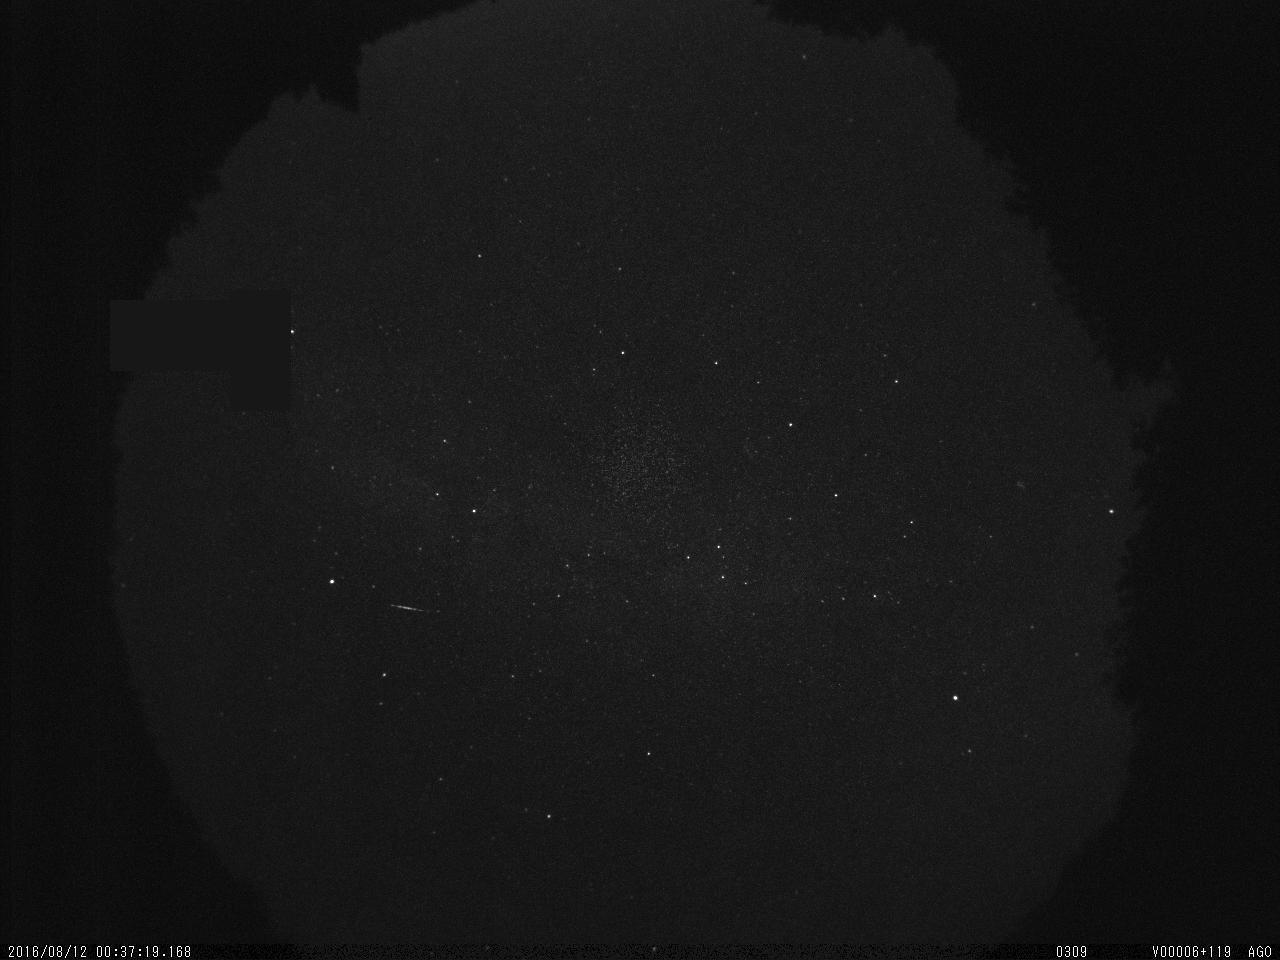Meteor: (388, 600, 425, 612)
